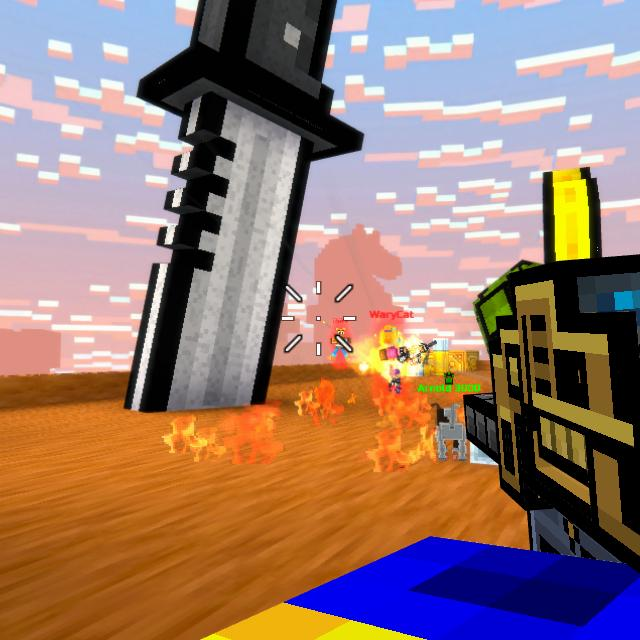Enemy: (329, 328, 352, 359)
